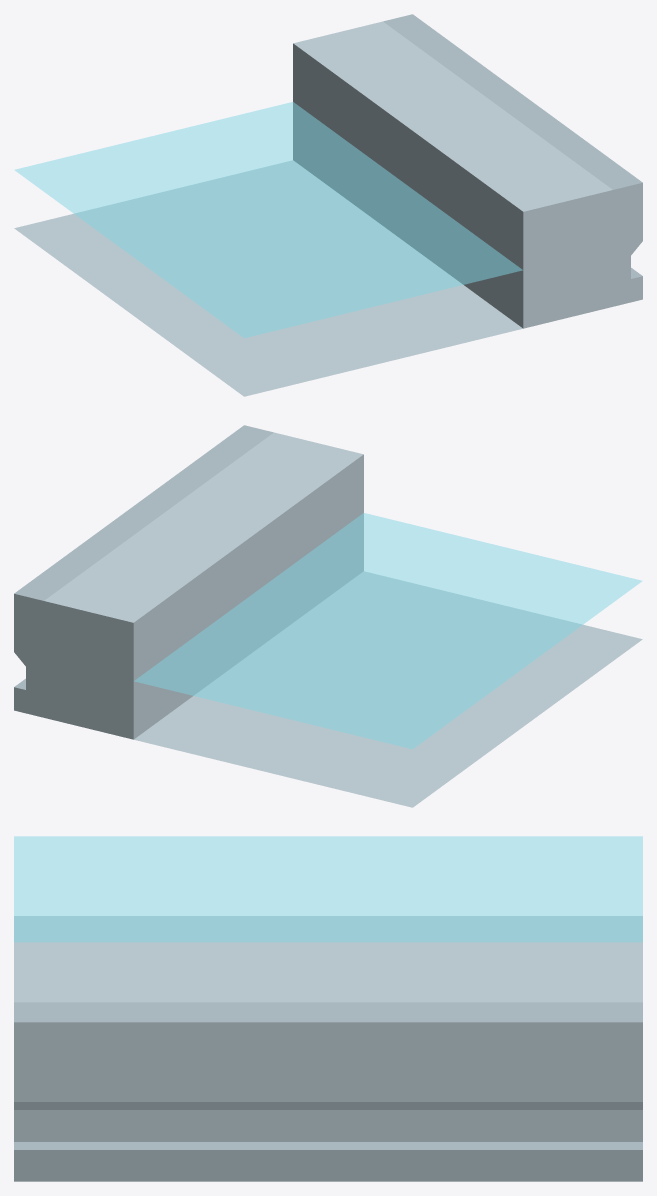
The model's file is fountain_edge.glb.
3 views of the same model, one above another, from view 1: azimuth 30°, elevation 25°; view 2: azimuth 150°, elevation 25°; view 3: azimuth 270°, elevation 25° (orthographic). The views are drawn at different scales.
Parts seen in each view (by area): view 1: fountainEdge; view 2: fountainEdge; view 3: fountainEdge.
Part boxes in pixels (x1,y1,x2,y2): fountainEdge: [14, 14, 642, 396]; fountainEdge: [14, 425, 642, 807]; fountainEdge: [14, 836, 642, 1181].
Size of the model in its own units: 1 by 0.28 by 1.
